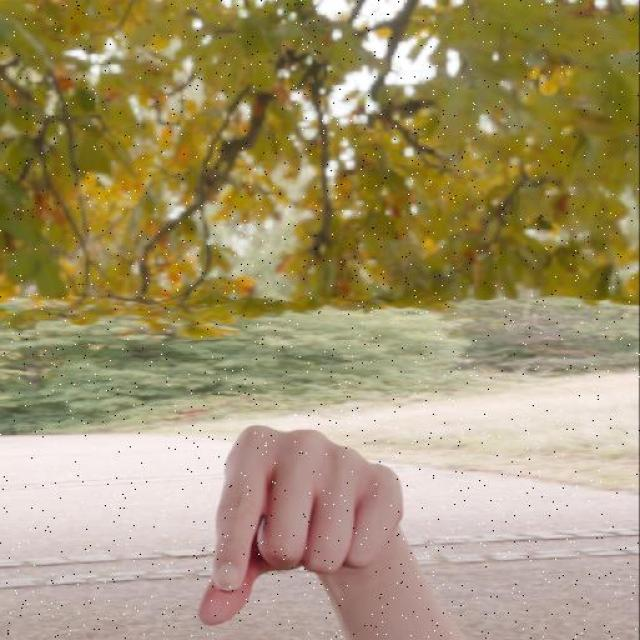Q: (198, 419, 408, 629)
